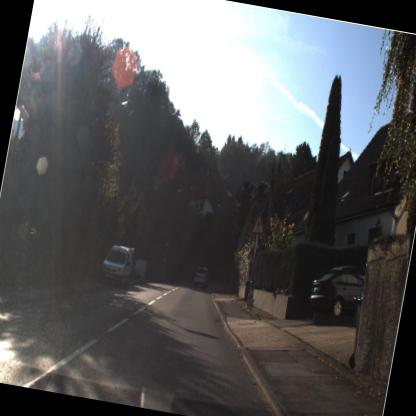danger: (247, 209, 270, 240)
